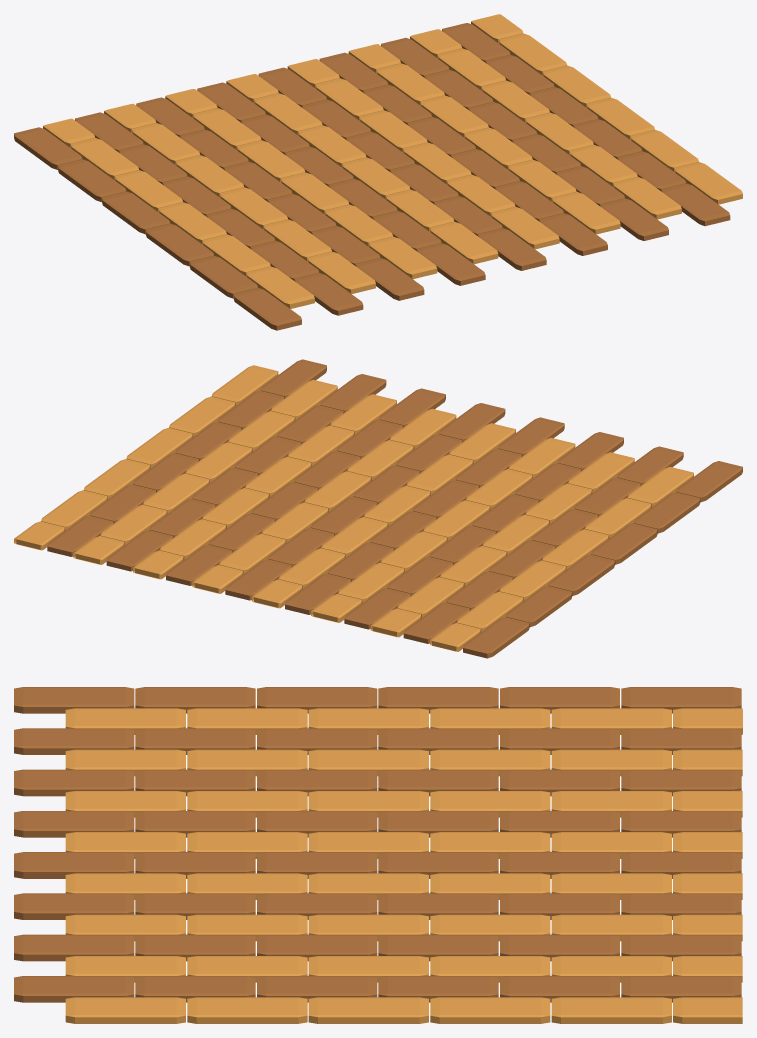
Rendered from Floor.glb.
3 renders of one model, top to bottom at view 1: azimuth 30°, elevation 25°; view 2: azimuth 150°, elevation 25°; view 3: azimuth 270°, elevation 25°, orthographic. The views are drawn at different scales.
Visible parts, largest first — view 1: Cube.122; view 2: Cube.122; view 3: Cube.122.
Boxes of the visible parts, x1=… form: Cube.122: x1=14, y1=14, x2=742, y2=330; Cube.122: x1=14, y1=359, x2=742, y2=658; Cube.122: x1=14, y1=687, x2=742, y2=1023.
Bounding box in the file's own units: 29.42 × 0.3313 × 27.45.
